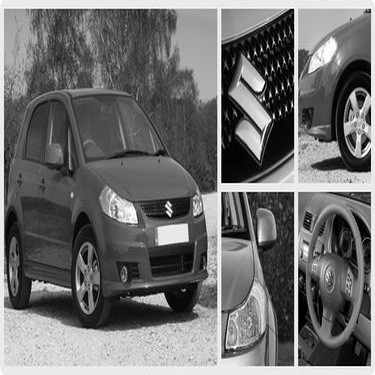car: (5, 83, 209, 333), (205, 16, 298, 186), (292, 187, 373, 369), (211, 185, 282, 367), (295, 15, 368, 177)
